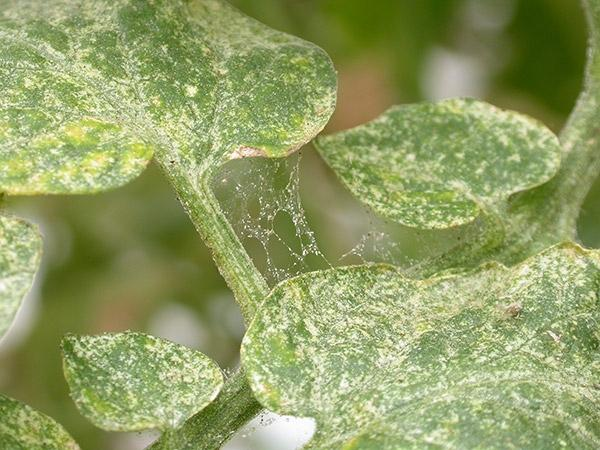Spider Mites: (237, 237, 600, 450), (0, 0, 343, 196), (313, 93, 564, 231), (58, 329, 228, 436)
